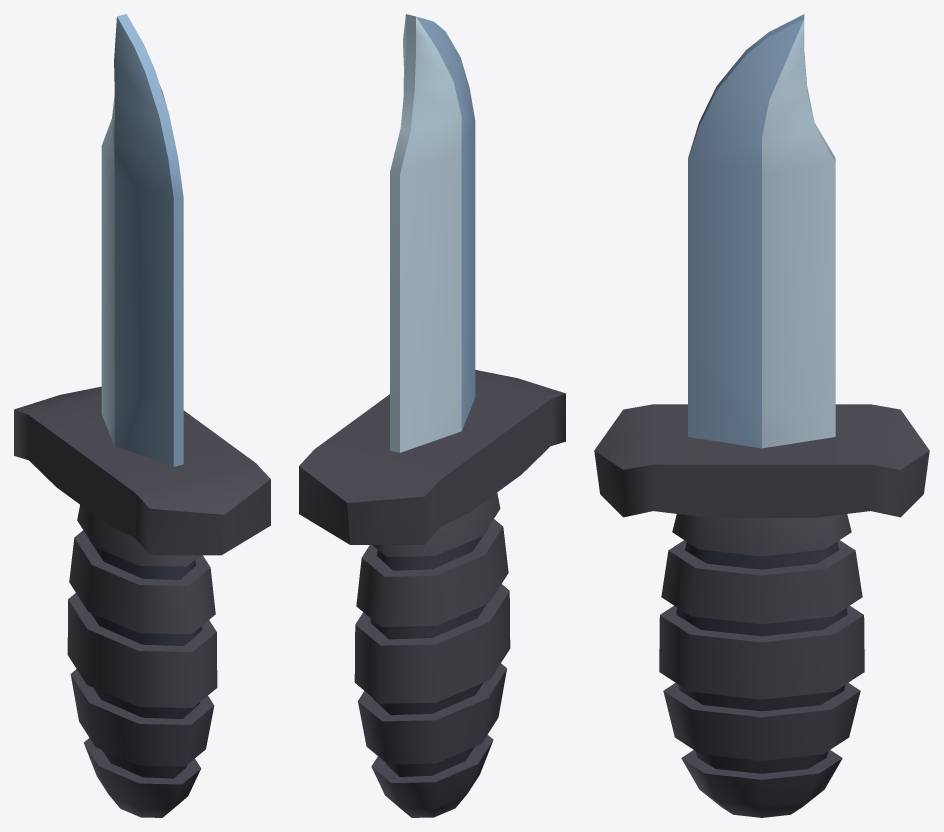
The model's file is MeleeWeaponAgent_Knife_01_Blade.fbx.
3 renders of one model, left to right at view 1: azimuth 30°, elevation 25°; view 2: azimuth 150°, elevation 25°; view 3: azimuth 270°, elevation 25°, orthographic. The views are drawn at different scales.
Parts seen in each view (by area): view 1: Knife01; view 2: Knife01; view 3: Knife01.
Boxes of the visible parts, <box> form: Knife01: <box>14,14,270,817</box>; Knife01: <box>299,14,565,817</box>; Knife01: <box>594,14,929,817</box>.
Size of the model in its own units: 0.1237 by 0.7632 by 0.2905.
